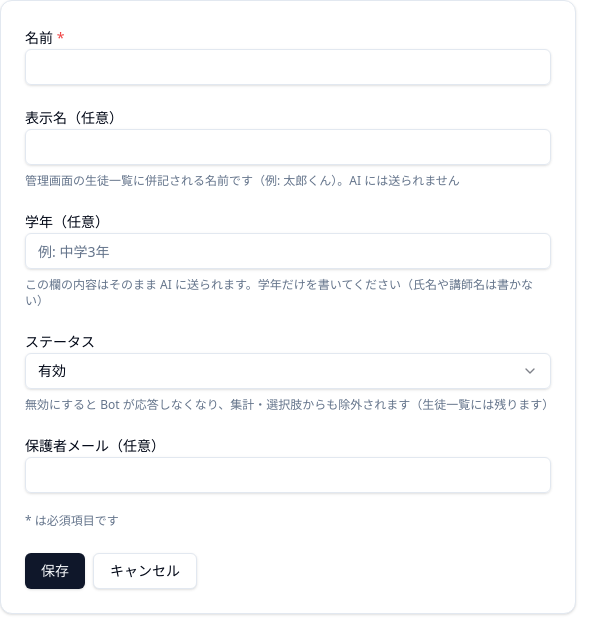
Test: PersonForm（H-9: 二重送信で二重登録させない） › 登録成功後は保存ボタンが無効のままになる
The image size is (593, 632).
In the field labelled "名前 *": (288, 67) [25, 49, 551, 85], type "太郎"
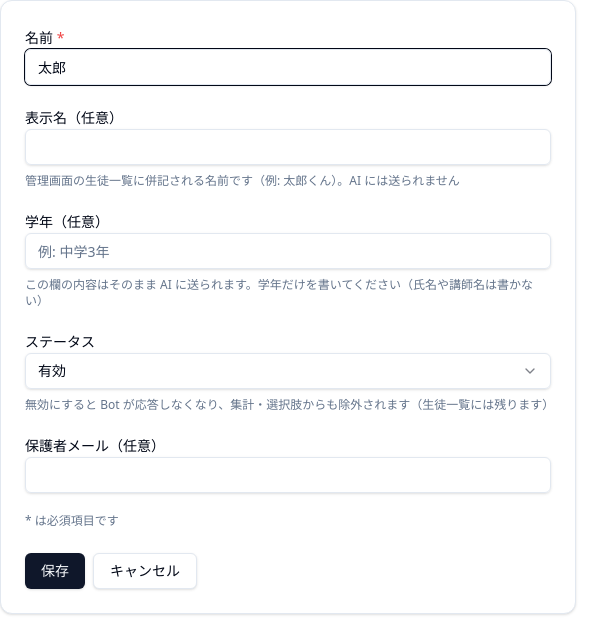
Click the button "保存": (55, 571) [25, 553, 85, 589]
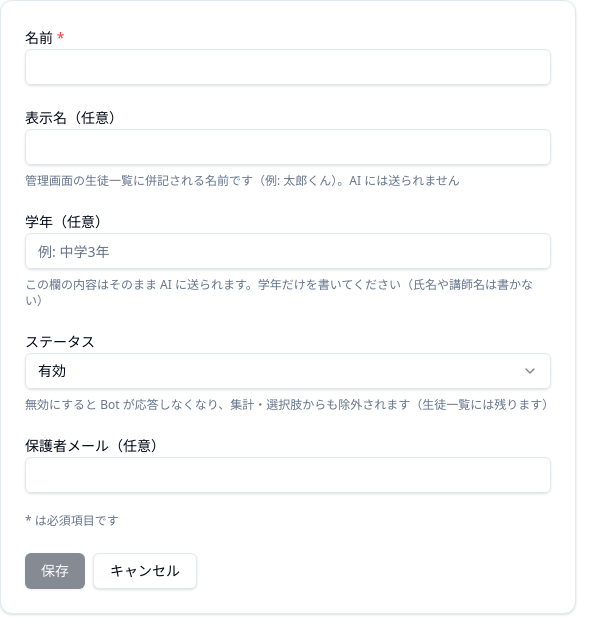
Result: the button "保存" is disabled at [25, 553, 85, 589]
